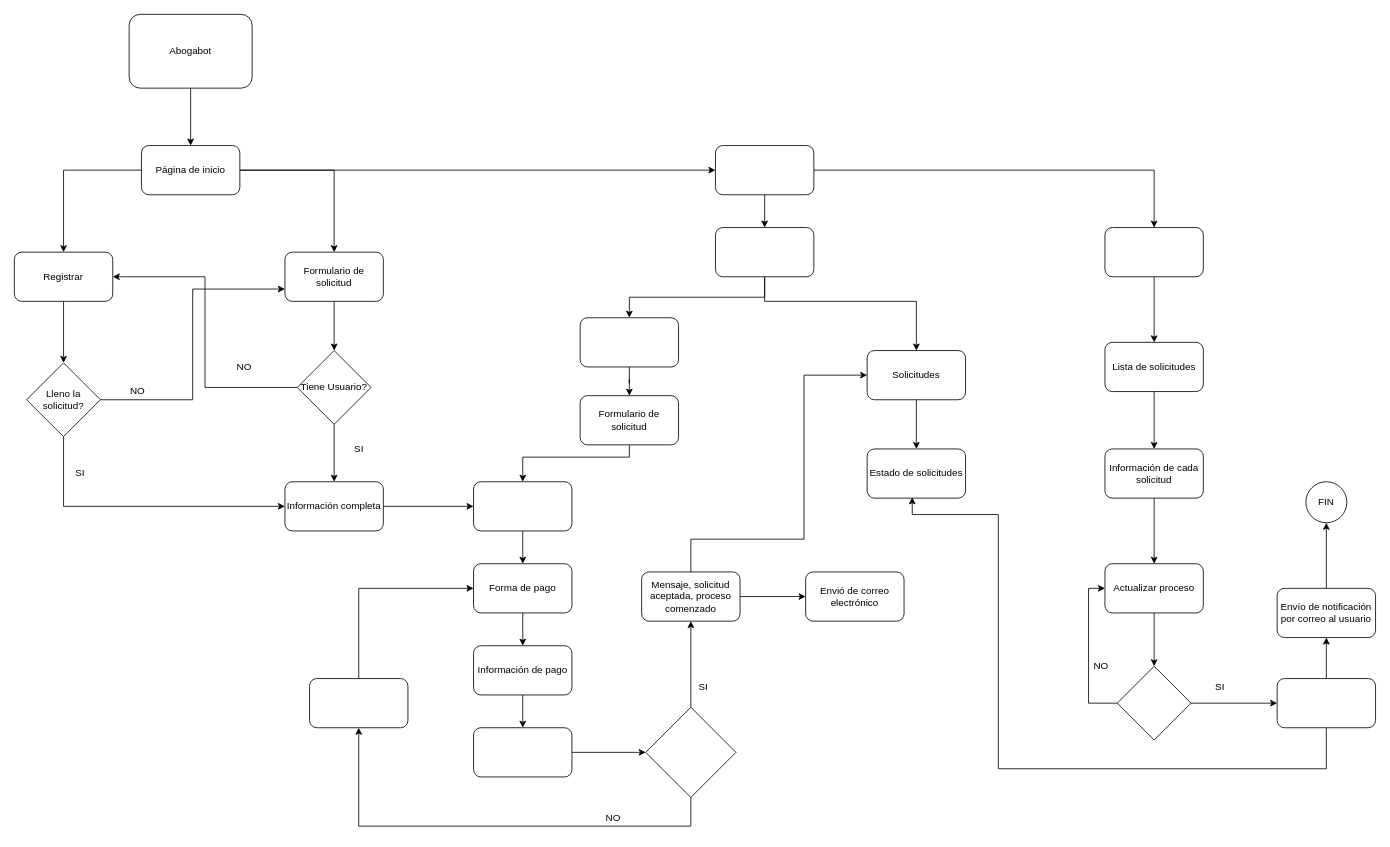
Image size: 1390x847. Some labels were removed from this diagram. The shapes that lost their labels are listed below. From the top down, each one's centre as x and y in pixels, then its label:
the point at 764,170: Inicio de sesión
the point at 764,252: Usuario
the point at 1153,252: Admin
the point at 629,342: Crear nueva solicitud
the point at 522,506: Checkout
the point at 358,703: Mensaje de error, prueba de nuevo
the point at 1153,702: Se actualizo?
the point at 1326,703: Proceso actualizado
the point at 522,752: Pago correcto
the point at 690,751: Se proceso el pago?
